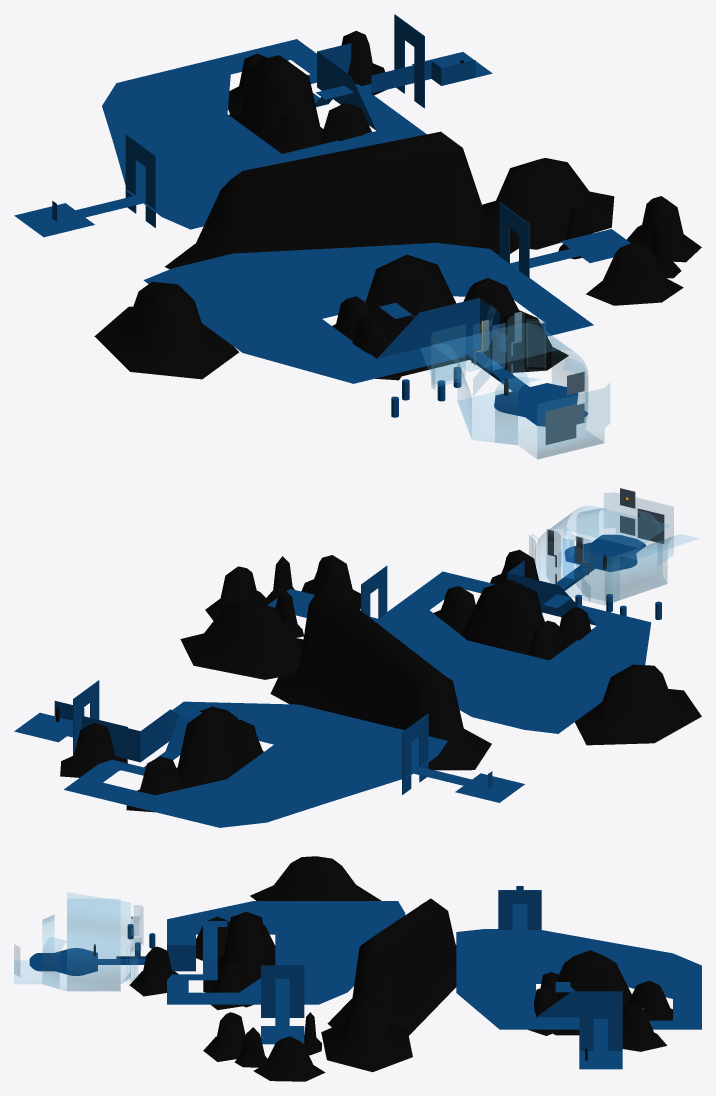
The model's file is world_1d.glb.
The picture shows the model from 3 angles, top to bottom: view 1: azimuth 30°, elevation 25°; view 2: azimuth 150°, elevation 25°; view 3: azimuth 270°, elevation 25°; orthographic projection. The views are drawn at different scales.
Parts seen in each view (by area): view 1: Cube.001, Plane.001, Plane.004; view 2: Plane.001, Cube.001, Plane.004; view 3: Plane.001, Cube.001, Plane.004.
Part boxes in pixels (x1=…): Cube.001: x1=94, y1=30, x2=701, y2=395; Plane.001: x1=14, y1=14, x2=630, y2=426; Plane.004: x1=421, y1=305, x2=609, y2=459; Plane.001: x1=14, y1=534, x2=661, y2=827; Cube.001: x1=56, y1=549, x2=701, y2=812; Plane.004: x1=529, y1=488, x2=698, y2=604; Plane.001: x1=29, y1=886, x2=701, y2=1069; Cube.001: x1=93, y1=856, x2=672, y2=1081; Plane.004: x1=14, y1=892, x2=143, y2=990.
Bounding box in the file's own units: 65.55 × 13.29 × 95.24.
Materials: 6 (1 with a texture image).
